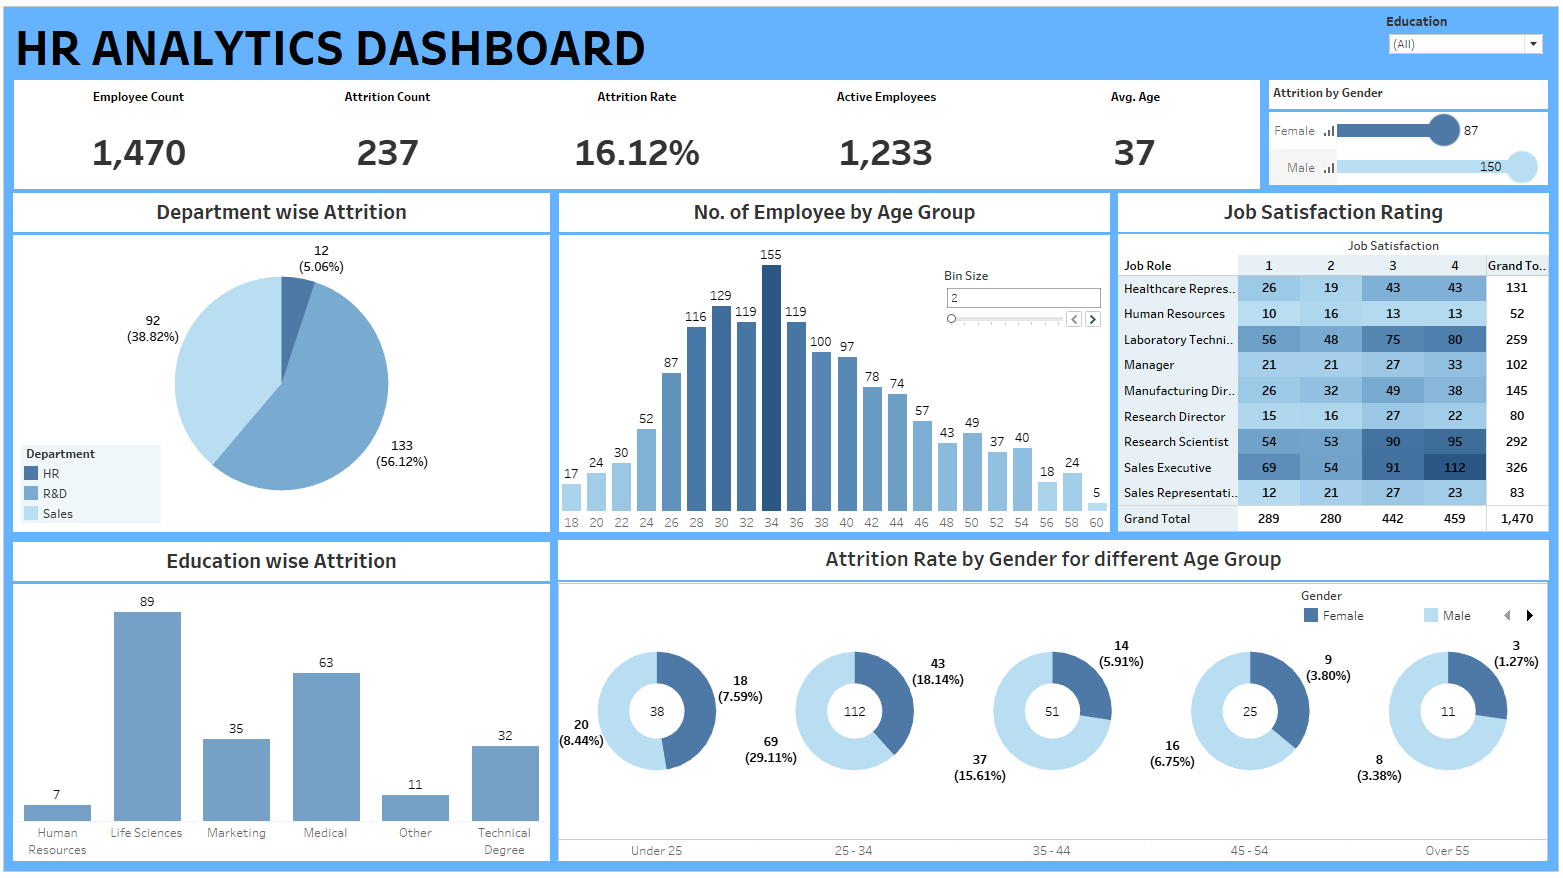

The dashboard page shown, as its layout file describes it:
{"tool":"tableau","page":{"name":"HR Analytics Dashboard","canvas":[1580,890],"ordinal":0},"visuals":[{"type":"image","box":[8,8,1564,874]},{"type":"filter","title":"Department wise Attrition","param":"[federated.1a7pvkq0x3356410xhh210wk96or].[none:Education:nk]","box":[1395,18,160,60]},{"type":"text","box":[21,22,1536,59]},{"type":"worksheet","title":"KPI","mark":"Automatic","box":[23,86,1246,109]},{"type":"worksheet","title":"Attrition by Gender","mark":"Automatic","rows":["Gender"],"cols":["Calculation_1537134891097513984","Calculation_1537134891097513984"],"box":[1278,86,279,105]},{"type":"worksheet","title":"Department wise Attrition","mark":"Pie","box":[22,199,537,339]},{"type":"worksheet","title":"No. of Employee by Age Group","mark":"Automatic","rows":["Employee Count"],"cols":["Age (bin)"],"box":[568,199,551,339]},{"type":"worksheet","title":"Job Satisfaction Rating","mark":"Square","rows":["Job Role"],"cols":["Job Satisfaction"],"box":[1127,199,431,339]},{"type":"parameter","param":"[Parameters].[Parameter 1]","box":[953,273,160,67]},{"type":"legend","title":"Department wise Attrition","param":"[federated.1a7pvkq0x3356410xhh210wk96or].[none:Department:nk]","box":[30,451,140,78]},{"type":"worksheet","title":"Attrition Rate by Gender for different Age Group","mark":"Pie","rows":["Calculation_1182757896285196289","Calculation_1182757896285196289"],"cols":["CF_age band"],"box":[567,546,991,321]},{"type":"worksheet","title":"Education wise Attrition","mark":"Automatic","rows":["Calculation_1537134891097513984"],"cols":["Education Field"],"box":[22,548,537,319]},{"type":"legend","title":"Attrition Rate by Gender for different Age Group","param":"[federated.1a7pvkq0x3356410xhh210wk96or].[none:Gender:nk]","box":[1310,593,241,38]}]}

Visuals, with their boxes in screenshot pixels (x1, y1, x2, y2), scaled from the page's 1580x890 canvas onto the 1563x878 screenshot:
image: 8:8:1555:870
"Department wise Attrition" filter: 1380:18:1538:77
text: 21:22:1540:80
"KPI" worksheet: 23:85:1255:192
"Attrition by Gender" worksheet: 1264:85:1540:188
"Department wise Attrition" worksheet (Pie marks): 22:196:553:531
"No. of Employee by Age Group" worksheet: 562:196:1107:531
"Job Satisfaction Rating" worksheet (Square marks): 1115:196:1541:531
parameter: 943:269:1101:335
"Department wise Attrition" legend: 30:445:168:522
"Attrition Rate by Gender for different Age Group" worksheet (Pie marks): 561:539:1541:855
"Education wise Attrition" worksheet: 22:541:553:855
"Attrition Rate by Gender for different Age Group" legend: 1296:585:1534:622
